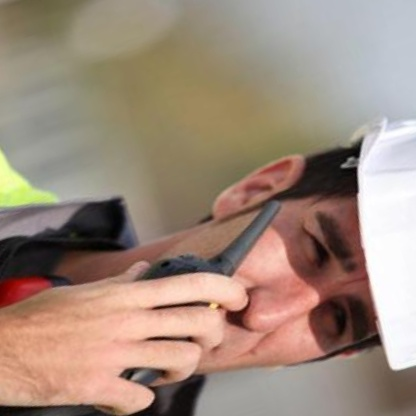vest: (0, 59, 165, 416)
white: (294, 78, 416, 397)
